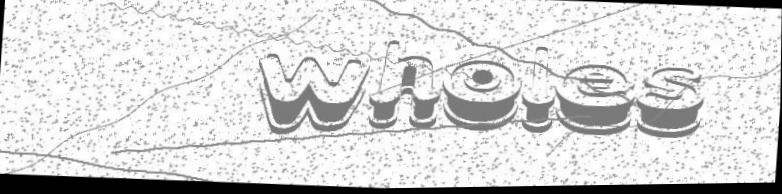e: (551, 59, 638, 142)
h: (363, 36, 448, 139)
l: (518, 44, 561, 137)
o: (437, 55, 526, 138)
s: (632, 63, 710, 145)
w: (250, 49, 370, 140)
